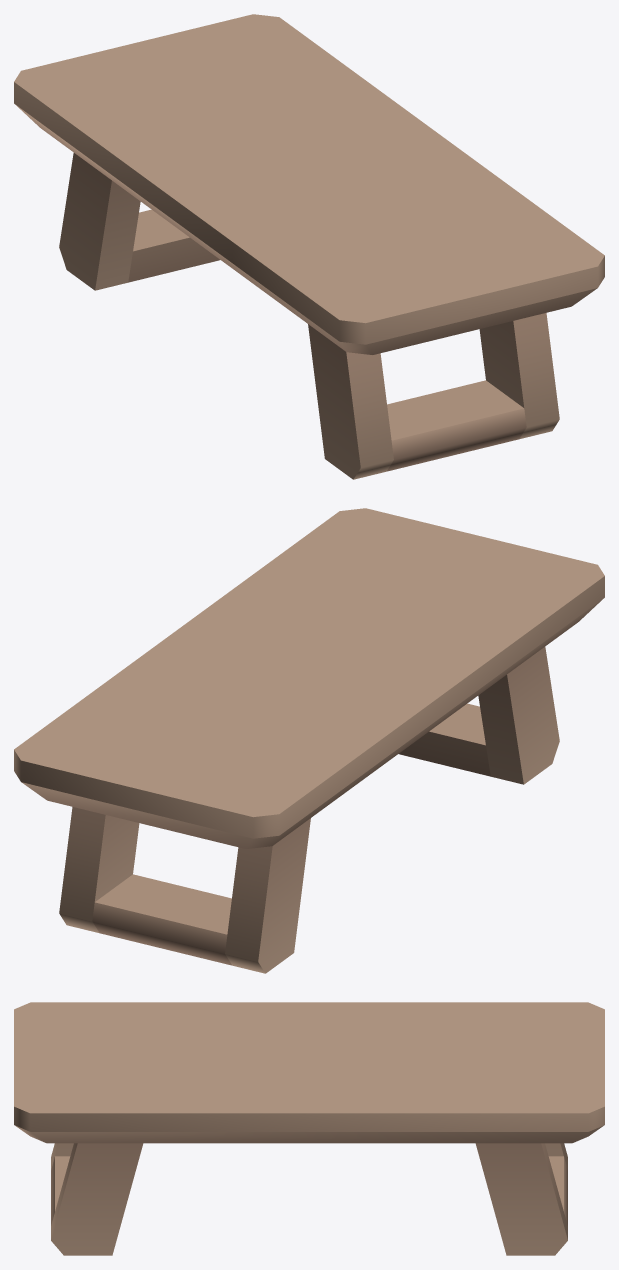
Rendered from table-chabudai.glb.
The picture shows the model from 3 angles, top to bottom: view 1: azimuth 30°, elevation 25°; view 2: azimuth 150°, elevation 25°; view 3: azimuth 270°, elevation 25°; orthographic projection. The views are drawn at different scales.
Visible parts, largest first — view 1: table-chabudai; view 2: table-chabudai; view 3: table-chabudai.
Boxes of the visible parts, x1,y1,x2,y2 form: table-chabudai: (14,14,604,479); table-chabudai: (14,508,604,973); table-chabudai: (14,1002,604,1255).
Size of the model in its own units: 0.4 by 0.262 by 0.9.
